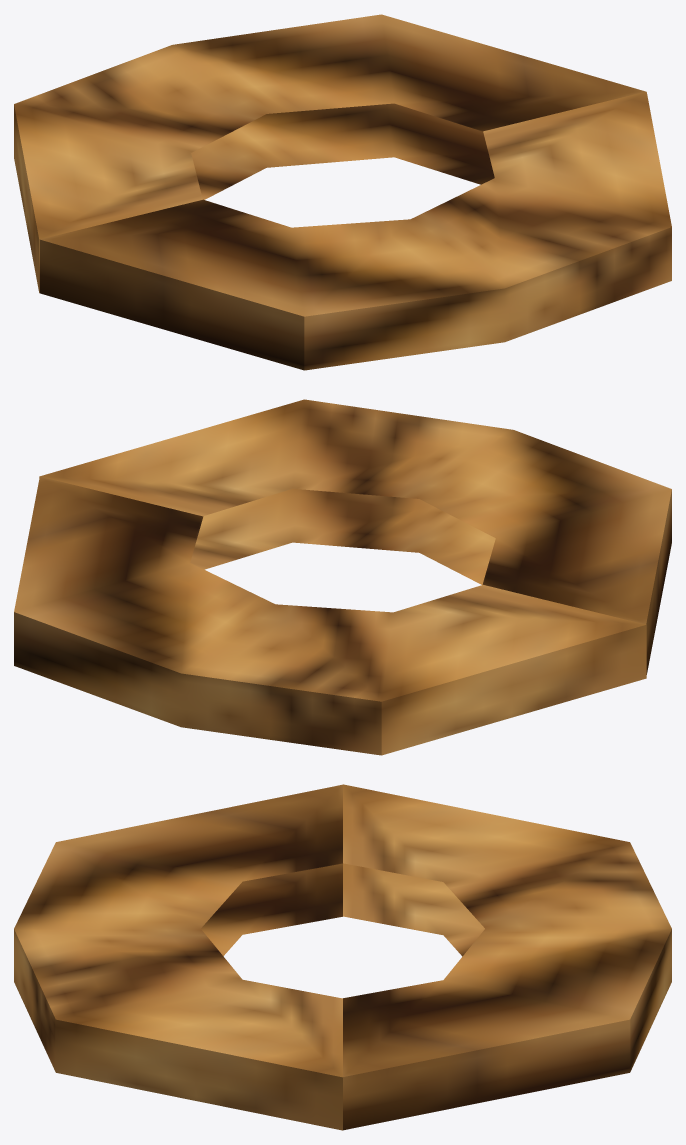
Rendered from nok_dec_01.dae.
3 renders of one model, top to bottom at view 1: azimuth 30°, elevation 25°; view 2: azimuth 150°, elevation 25°; view 3: azimuth 270°, elevation 25°, orthographic.
Visible parts, largest first — view 1: a_nok_dec_01; view 2: a_nok_dec_01; view 3: a_nok_dec_01.
Part boxes in pixels (x1,y1,x2,y2): a_nok_dec_01: (14, 14, 671, 370); a_nok_dec_01: (14, 399, 671, 755); a_nok_dec_01: (14, 784, 671, 1130).
Size of the model in its own units: 0.9736 by 0.9237 by 0.0824.
